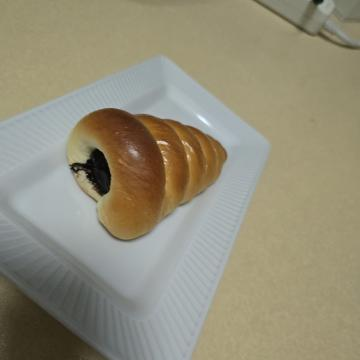cream horn: (86, 122, 264, 304)
